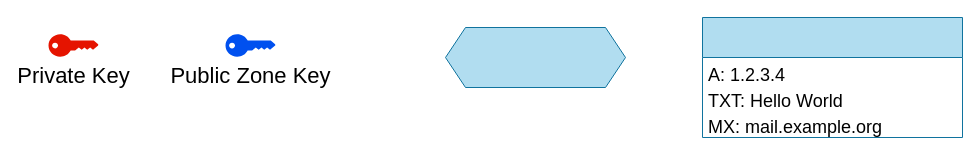
Some shapes in this 980 by 158 pixel diagram are drawn without their labels. The box of each missing label's shape, as (x1, y1, x2, y2) in pixels:
Label: (444, 26, 626, 88)
Resource Records: (702, 16, 962, 138)
